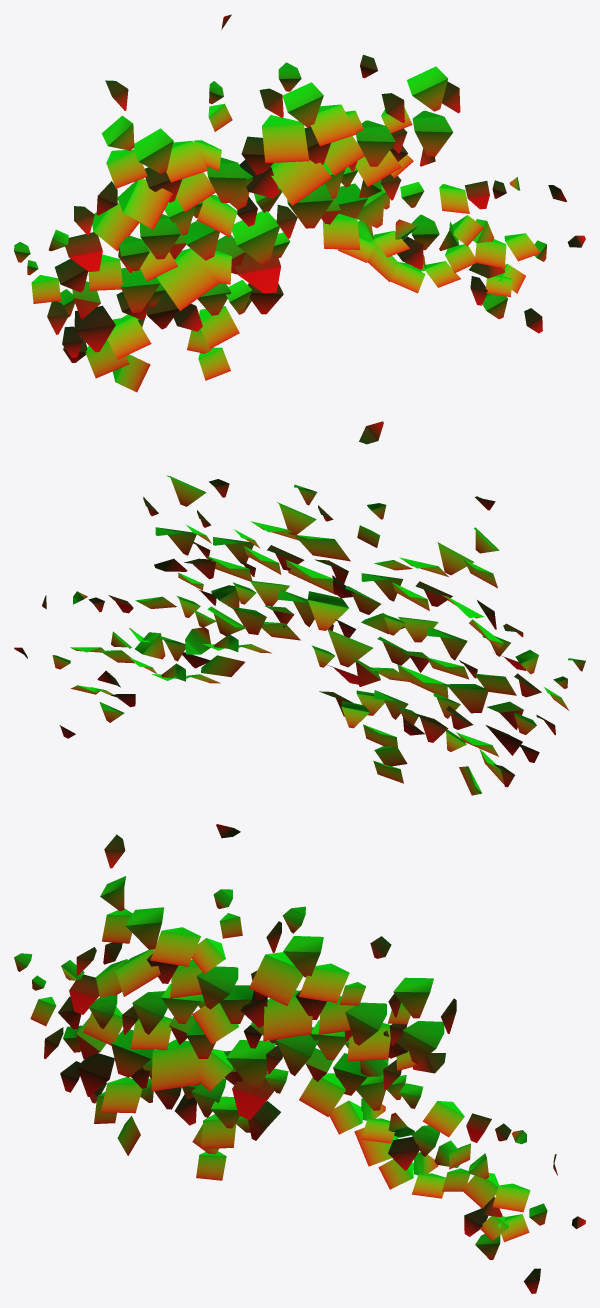
The model's file is Lierre5_LOD1.fbx.
3 views of the same model, one above another, from view 1: azimuth 30°, elevation 25°; view 2: azimuth 150°, elevation 25°; view 3: azimuth 330°, elevation 25° (orthographic).
Visible parts, largest first — view 1: _72a0_Var4_LOD2; view 2: _72a0_Var4_LOD2; view 3: _72a0_Var4_LOD2.
Part boxes in pixels (x1=…): _72a0_Var4_LOD2: x1=14, y1=14, x2=585, y2=392; _72a0_Var4_LOD2: x1=14, y1=421, x2=585, y2=795; _72a0_Var4_LOD2: x1=14, y1=824, x2=585, y2=1293.
Size of the model in its own units: 85.9 by 56.57 by 8.55.
